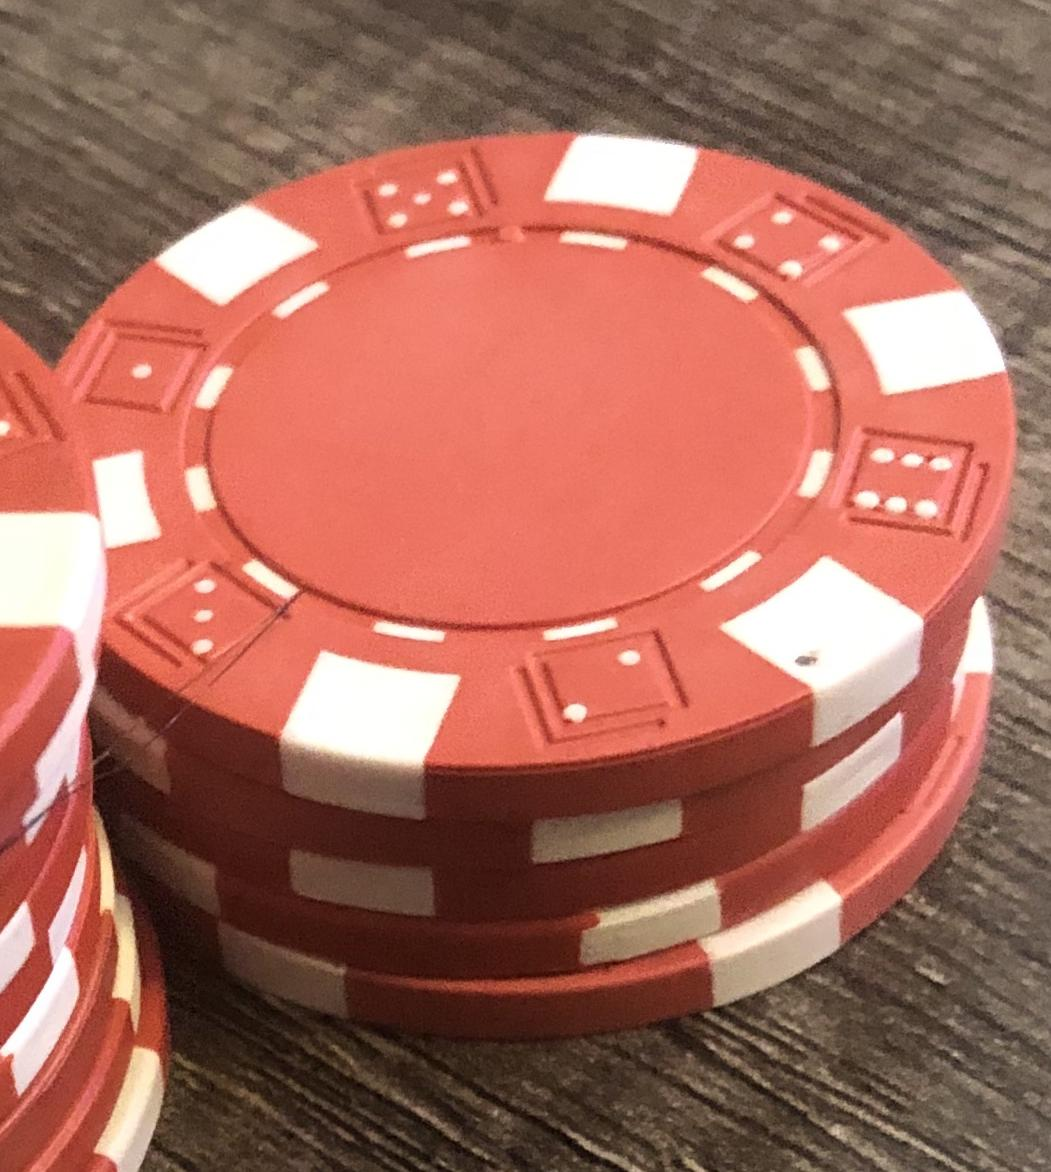Chip: (1, 1, 1051, 1172)
